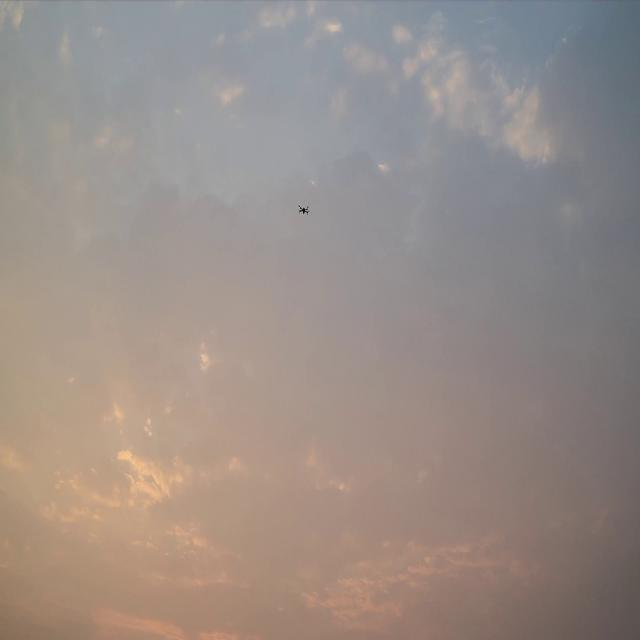UAV: (297, 205, 310, 215)
